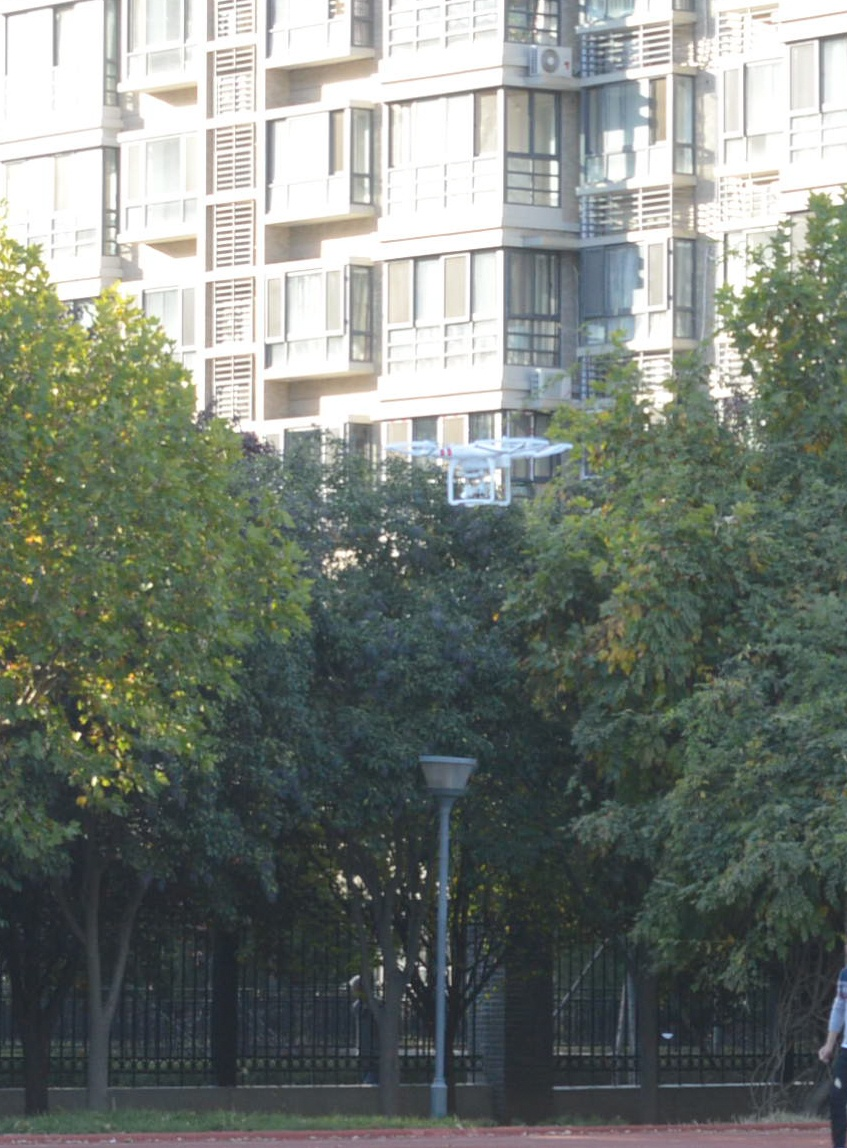DJI: (387, 434, 578, 514)
